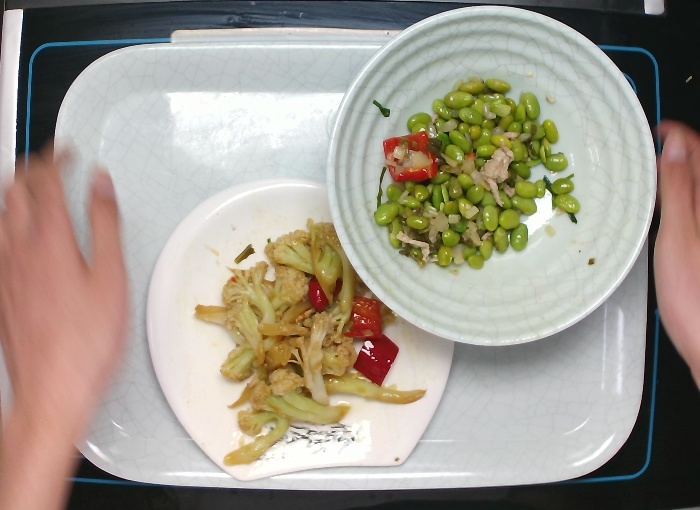JYsf-Da_Tang_Wan: (318, 5, 658, 348)
JYsf-Mian_Pan: (142, 177, 456, 482)
